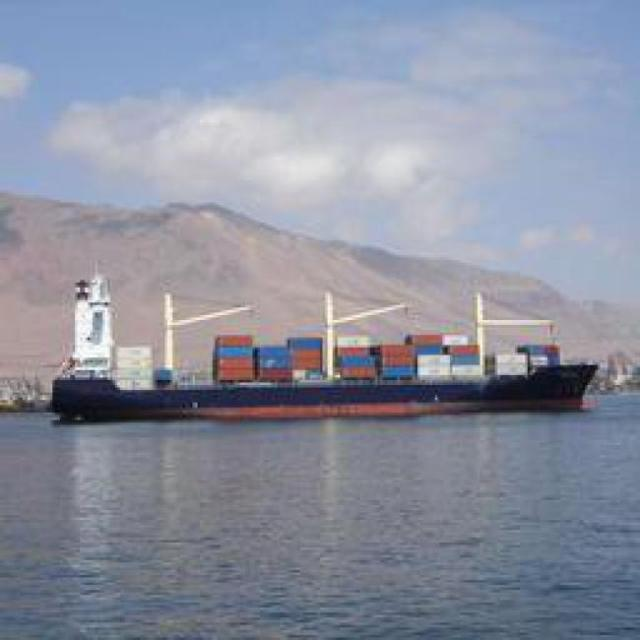boat: (32, 288, 602, 417)
